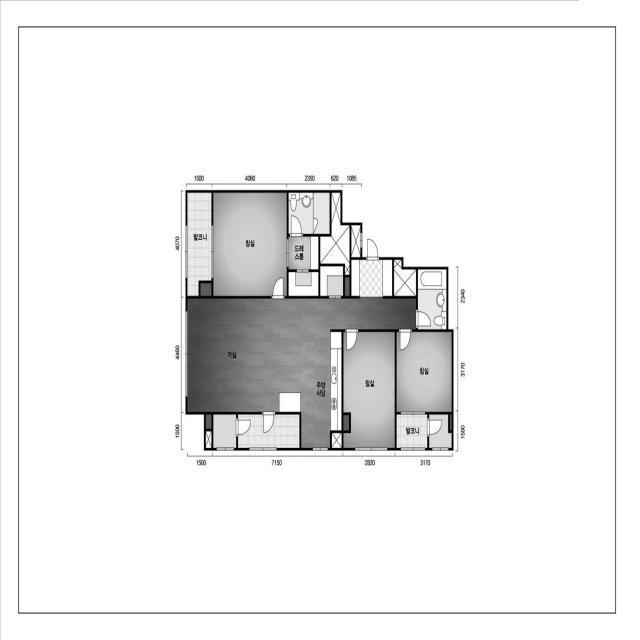background: (0, 0, 640, 640)
space_balconi: (187, 193, 212, 296), (238, 414, 299, 448), (396, 414, 427, 448)
space_bedroom: (213, 193, 287, 296), (343, 332, 395, 448), (396, 332, 452, 412)
space_dressroom: (289, 236, 319, 270), (289, 272, 318, 296)
space_front: (351, 260, 392, 297)
space_kitchen: (275, 329, 342, 448)
space_living_room: (187, 299, 416, 412)
space_other: (320, 193, 350, 275), (394, 260, 416, 296), (429, 414, 452, 448), (213, 415, 236, 448), (320, 266, 343, 296), (351, 225, 361, 257), (332, 433, 342, 448), (206, 431, 212, 448), (345, 277, 350, 296), (343, 415, 349, 430), (206, 415, 211, 429), (450, 414, 452, 430)
space_toilet: (418, 269, 446, 330), (289, 193, 330, 234)
